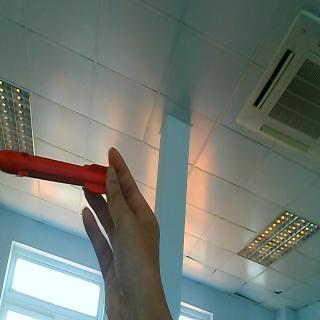Rocket: (0, 150, 106, 194)
